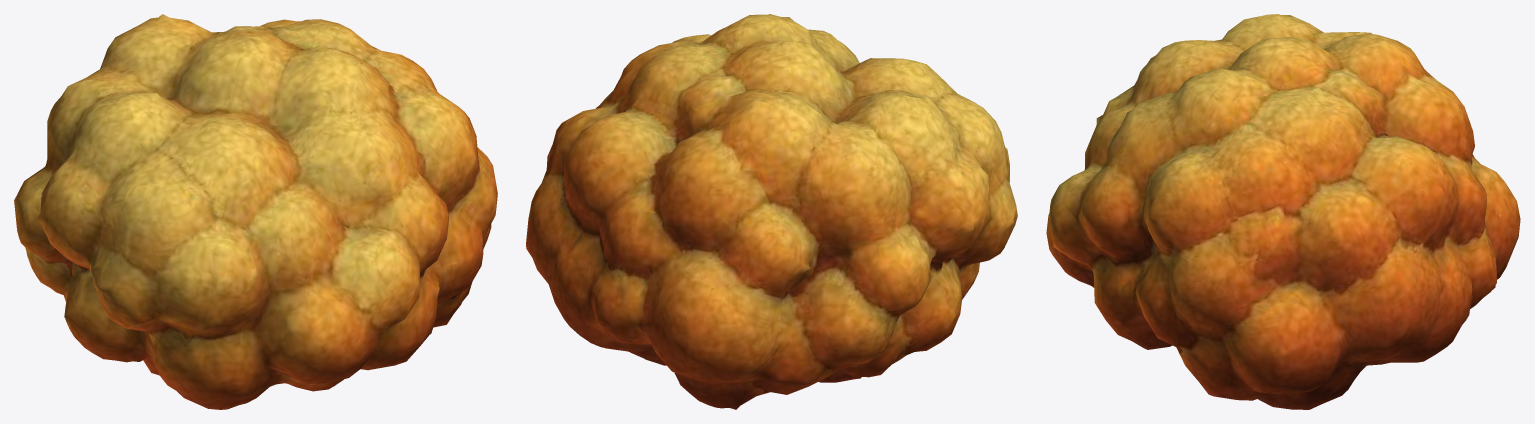
Rendered from bush_autumn.glb.
3 views of the same model, side by side, from view 1: azimuth 30°, elevation 25°; view 2: azimuth 150°, elevation 25°; view 3: azimuth 270°, elevation 25° (orthographic). The views are drawn at different scales.
Parts seen in each view (by area): view 1: bush_autumn_low0; view 2: bush_autumn_low0; view 3: bush_autumn_low0.
Boxes of the visible parts, x1=… form: bush_autumn_low0: x1=14, y1=14, x2=497, y2=409; bush_autumn_low0: x1=526, y1=14, x2=1017, y2=409; bush_autumn_low0: x1=1046, y1=14, x2=1520, y2=409.
Bounding box in the file's own units: 1.49 × 1.07 × 1.48.
1 material, 1 textured.
